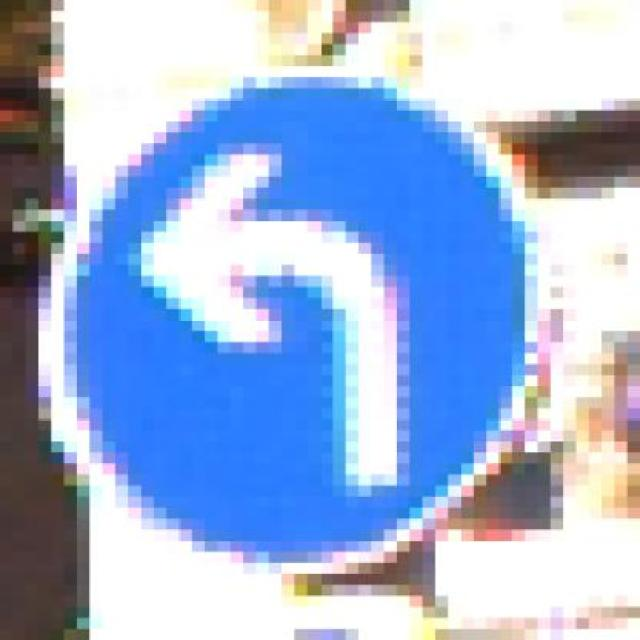Turn left ahead: (51, 77, 563, 574)
